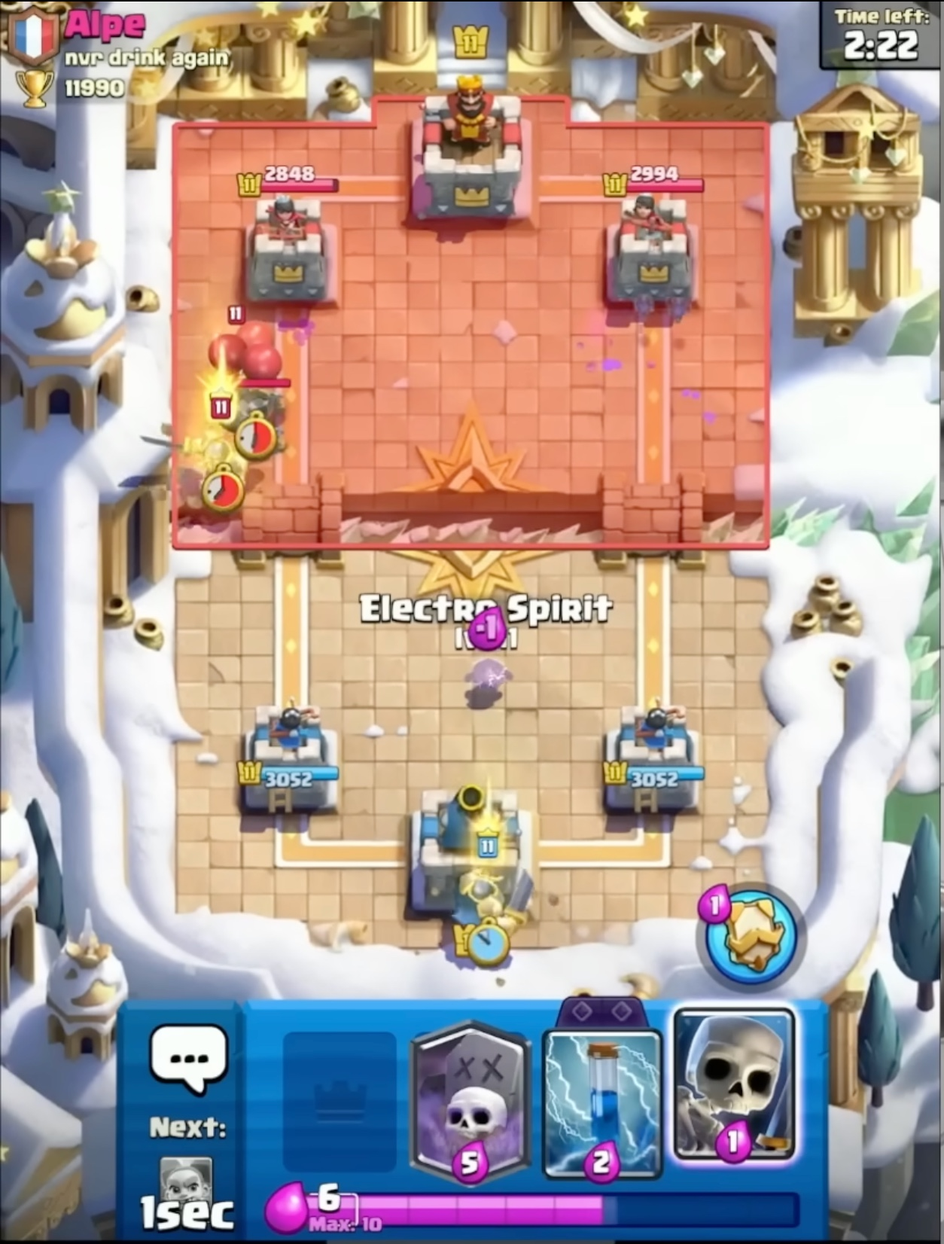hero-knight: (173, 387, 254, 535)
mortar: (212, 373, 294, 456)
skeleton-barrel: (199, 304, 291, 450)
